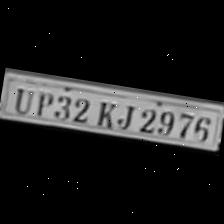2: (67, 93, 93, 125), (132, 104, 158, 136)
3: (51, 91, 72, 121)
6: (189, 111, 212, 142)
7: (172, 110, 194, 140)
9: (154, 106, 176, 136)
J: (113, 100, 136, 132)
K: (91, 98, 118, 130)
P: (32, 88, 54, 118)
U: (8, 83, 36, 116)
